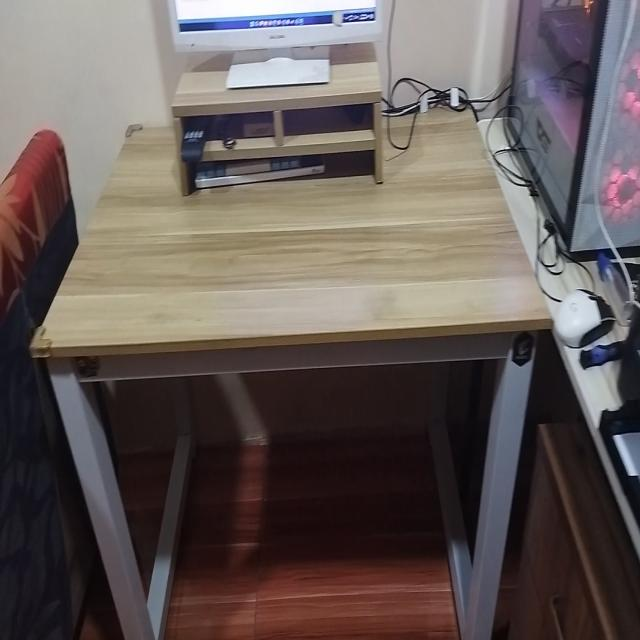table: (51, 110, 540, 640)
